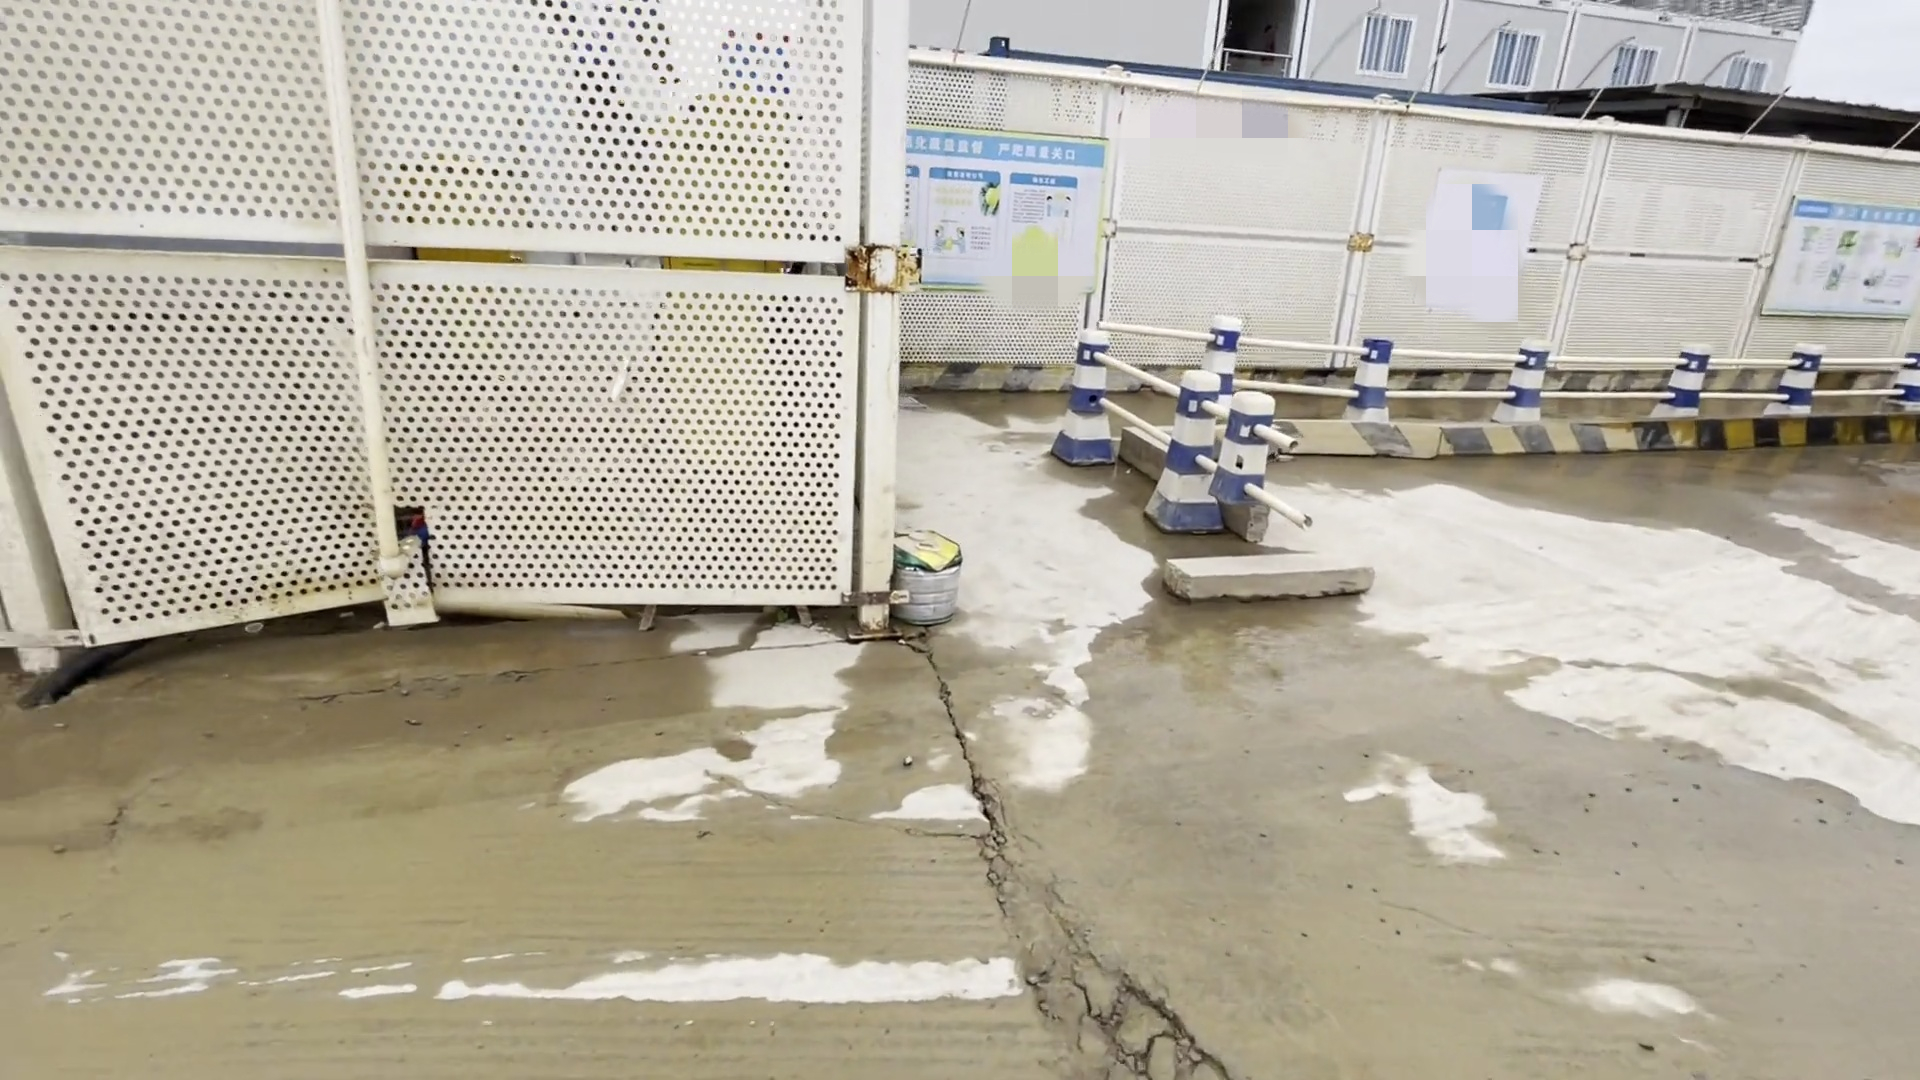slogan: (895, 107, 1154, 290), (1754, 199, 1920, 338)
